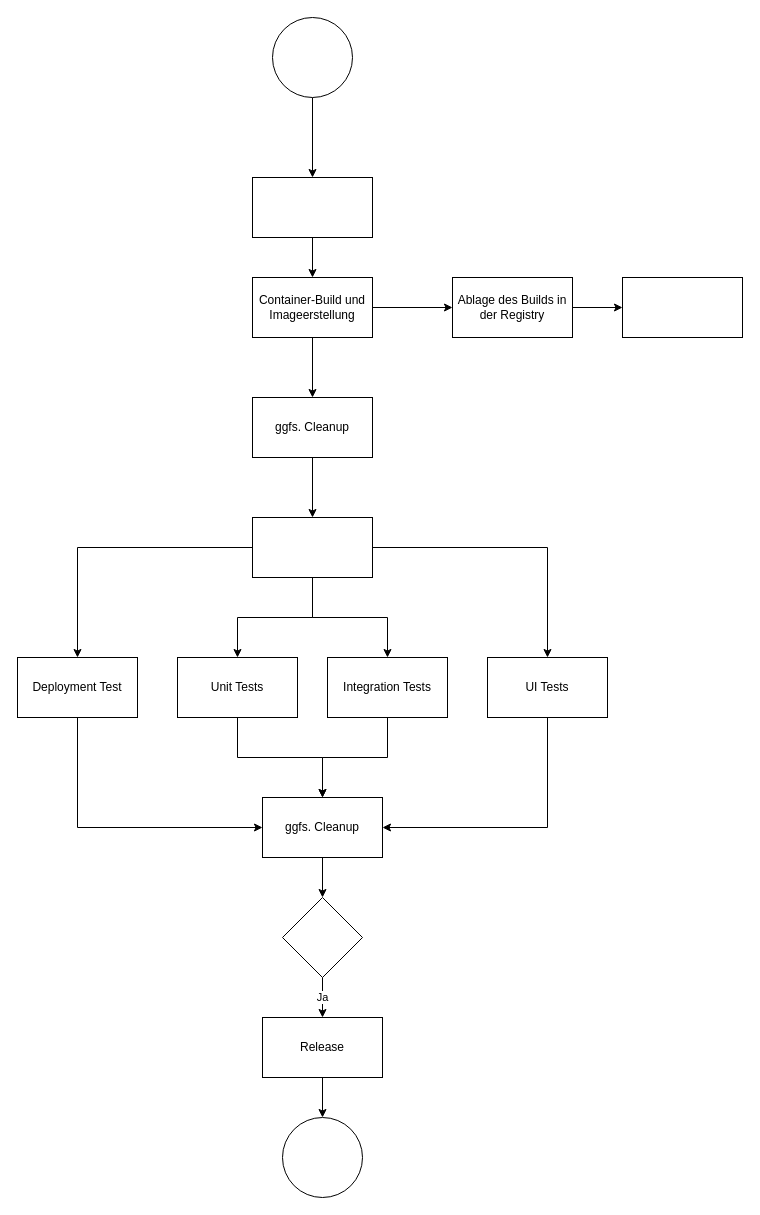
This 760x1215 diagram has some shape labels left out. The centre of each missing label's shape, as x and y in pixels:
Checkout: pixel 312 207
Test erfolgreich?: pixel 322 937
Tests ausführen: pixel 312 547
Vulnerability Scan: pixel 682 307
